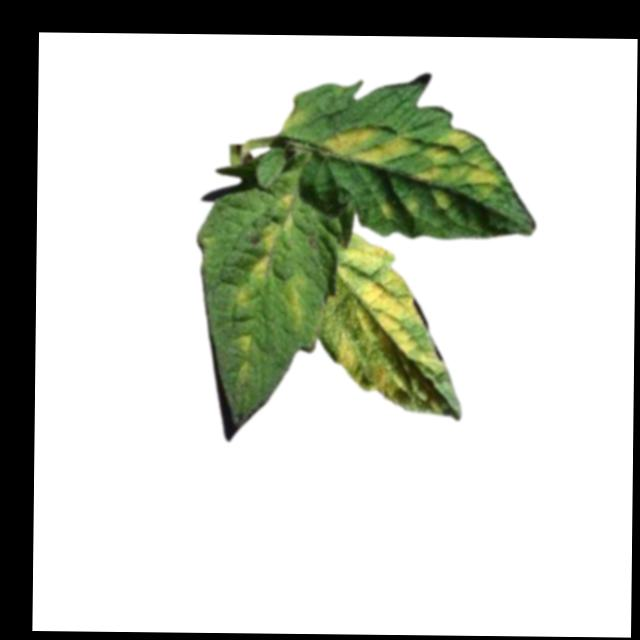Leaf_Mold: (321, 231, 450, 416), (416, 128, 500, 198), (323, 118, 412, 168), (250, 227, 280, 285), (283, 272, 311, 333), (275, 192, 299, 231), (280, 108, 306, 131), (234, 285, 253, 313), (373, 199, 395, 221), (234, 334, 253, 355)
